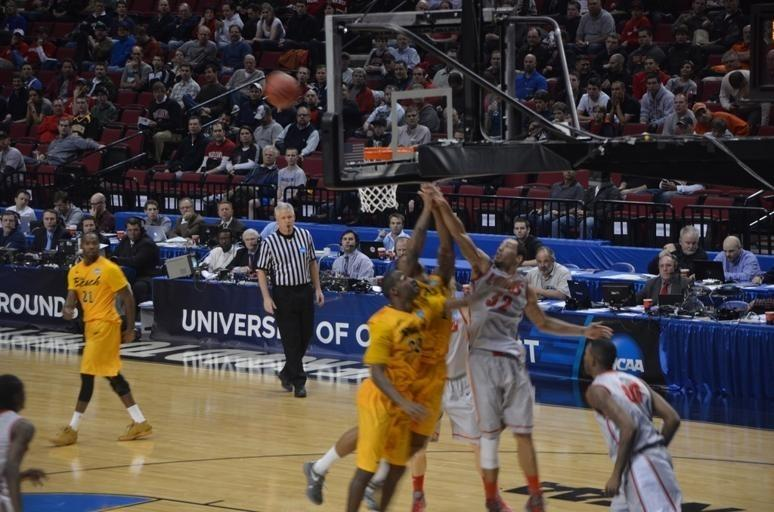basketball-player: (431, 182, 623, 512), (306, 185, 461, 512), (346, 242, 500, 512), (48, 212, 173, 452), (576, 329, 699, 512), (0, 362, 51, 512)
